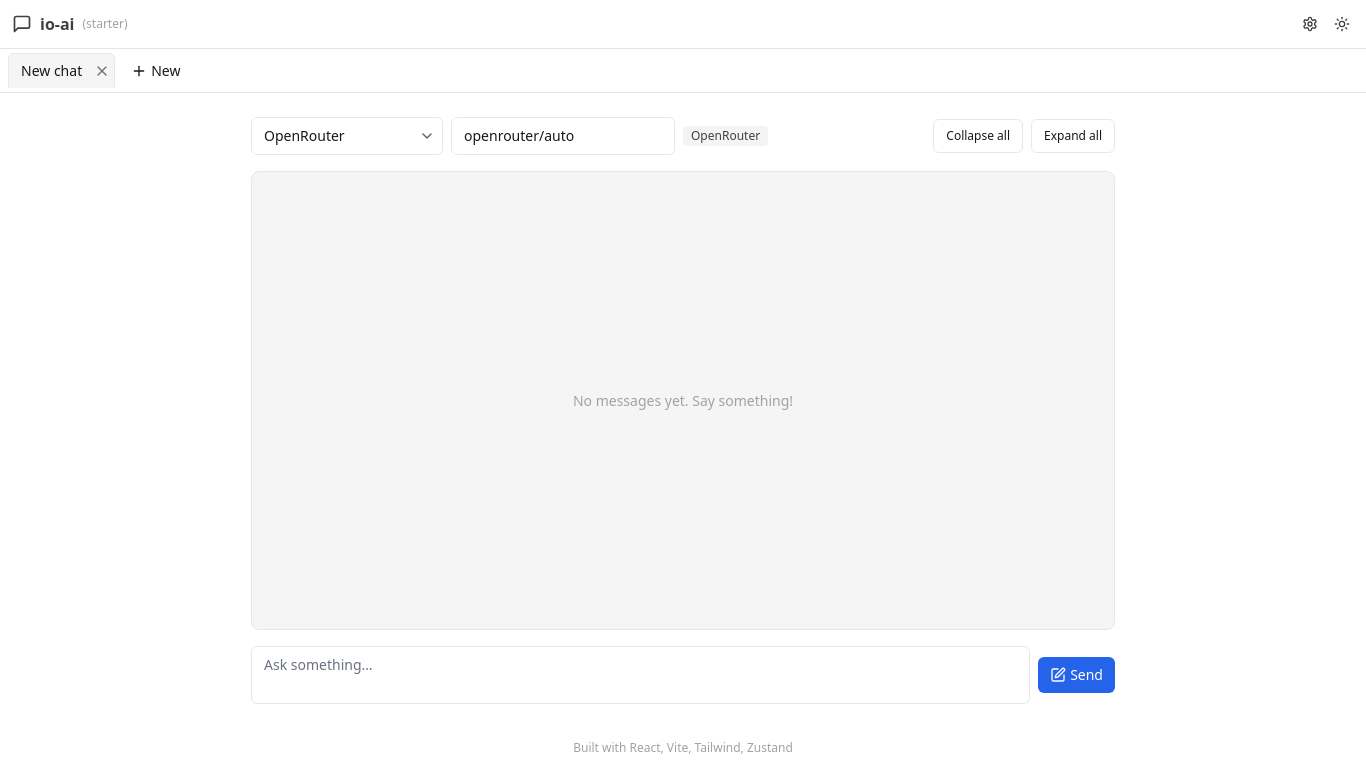
Test: App scaffold › renders header and can send a message with OpenRouter
Expected: the text "io-ai" is shown, [40, 12, 74, 36]
Type "hello" into the text box with placeholder "Ask something…". click: (641, 675)
box: [251, 646, 1030, 704]
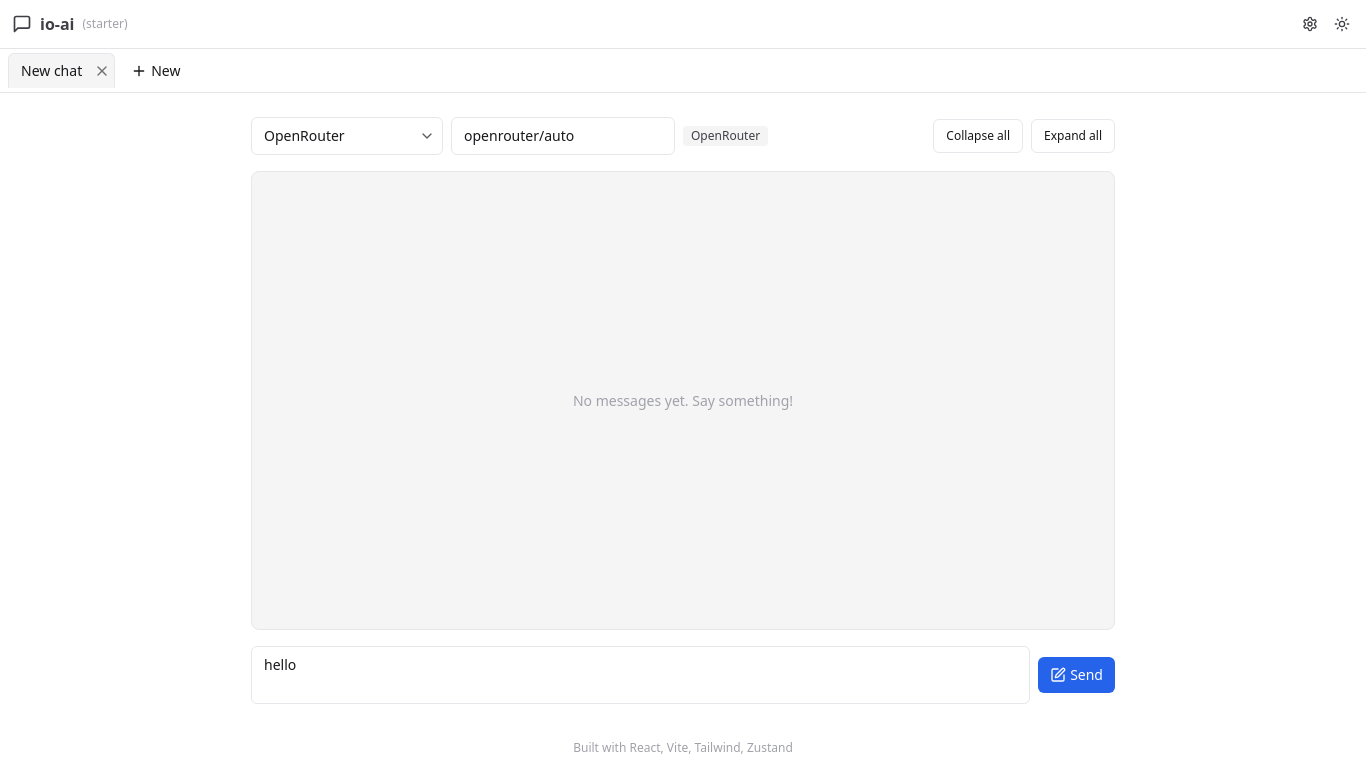
Press Enter in the text box with placeholder "Ask something…", box [251, 646, 1030, 704]
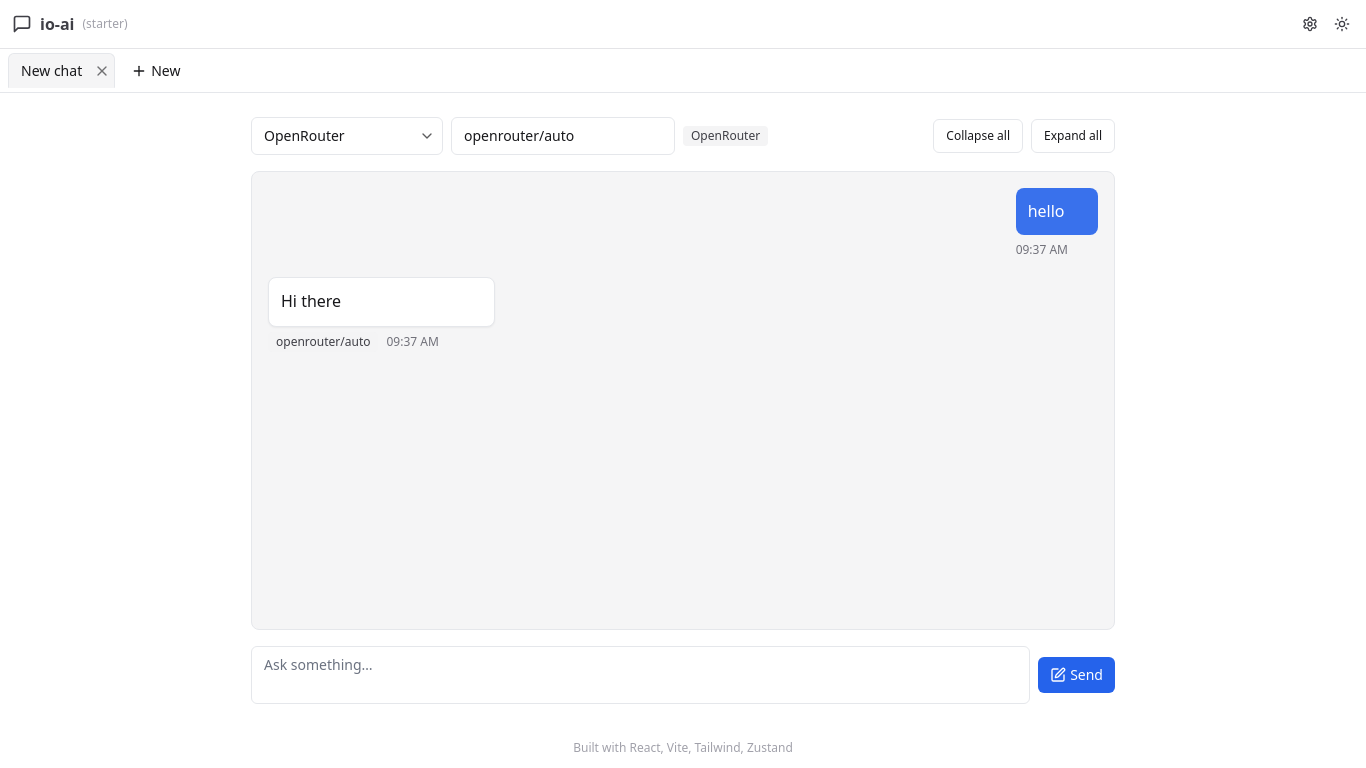
Expected: the text "Hi there" is shown, [281, 290, 341, 312]
